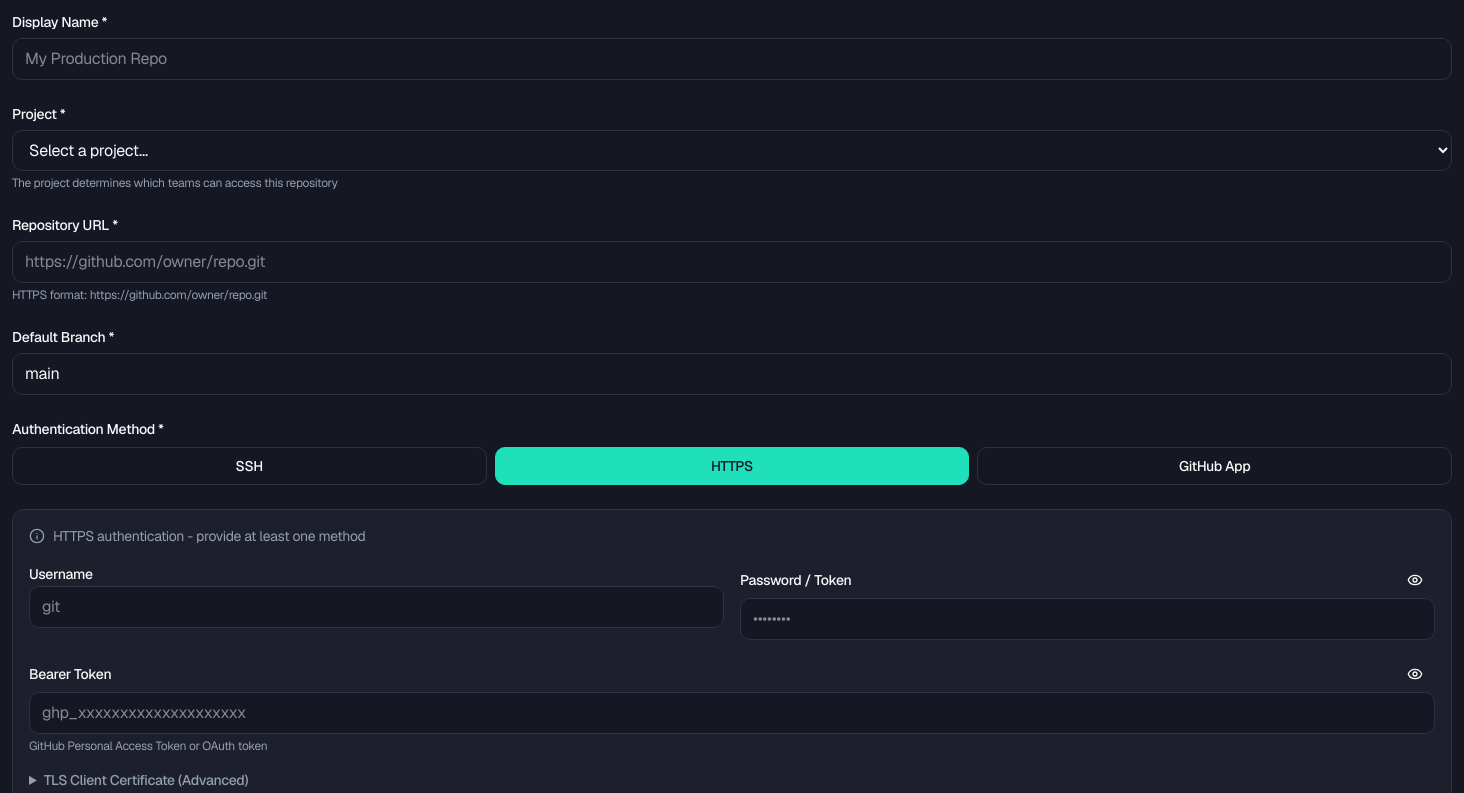
RepositoryForm › authentication type switching › switches to SSH authentication
Click the button "SSH": (249, 466) x1=12 y1=447 x2=487 y2=485
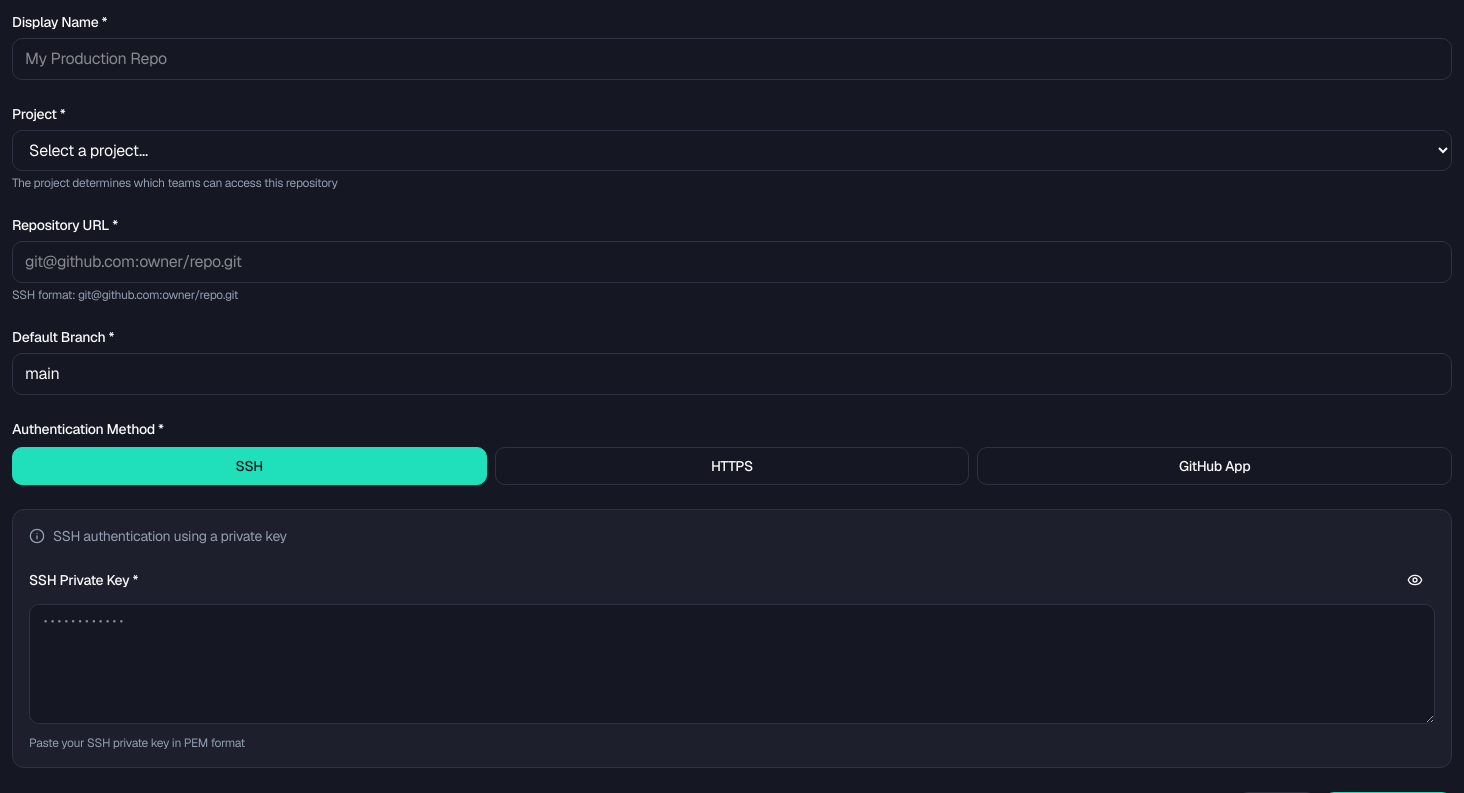
Check: the text box labelled "SSH Private Key *" is shown, box x1=29 y1=604 x2=1435 y2=724
